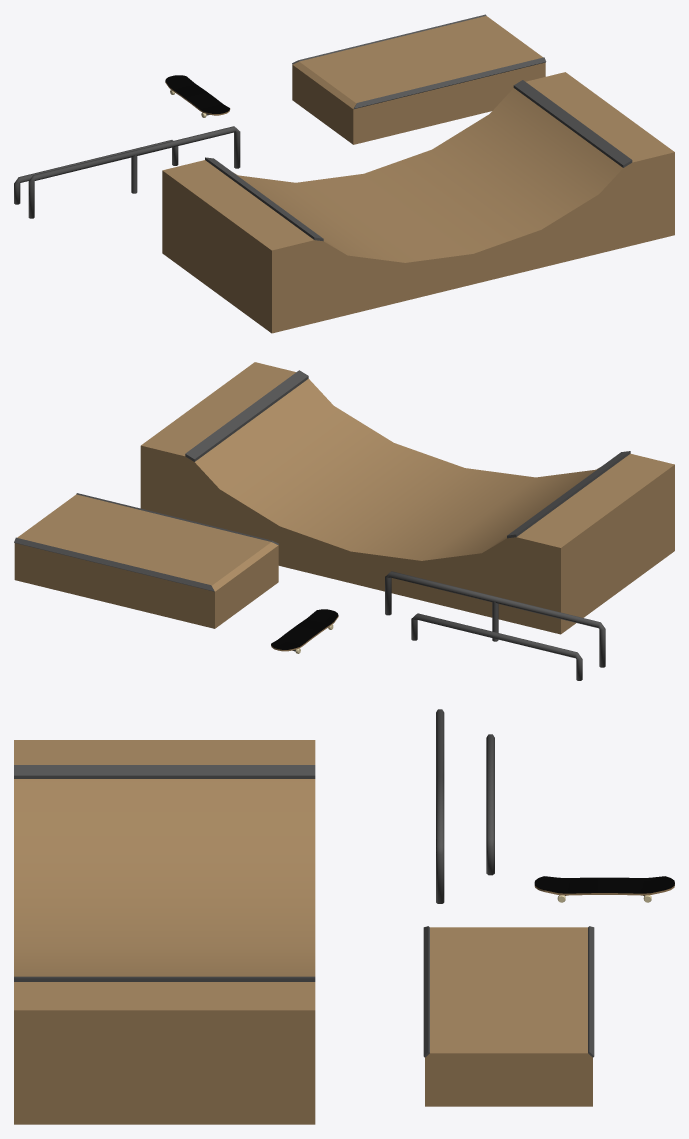
The model's file is skatepark-stuff.fbx.
3 views of the same model, one above another, from view 1: azimuth 30°, elevation 25°; view 2: azimuth 150°, elevation 25°; view 3: azimuth 270°, elevation 25° (orthographic). The views are drawn at different scales.
Parts seen in each view (by area): view 1: miniramp, manny-pad, rail, skateboard, small-rail; view 2: miniramp, manny-pad, rail, small-rail, skateboard; view 3: miniramp, manny-pad, skateboard, rail, small-rail.
Boxes of the visible parts, x1=… form: miniramp: x1=162, y1=72, x2=674, y2=333; manny-pad: x1=292, y1=14, x2=546, y2=144; rail: x1=28, y1=126, x2=240, y2=218; skateboard: x1=165, y1=75, x2=230, y2=117; small-rail: x1=14, y1=140, x2=178, y2=204; miniramp: x1=140, y1=362, x2=674, y2=634; manny-pad: x1=14, y1=493, x2=278, y2=628; rail: x1=385, y1=571, x2=605, y2=667; small-rail: x1=411, y1=613, x2=582, y2=680; skateboard: x1=271, y1=609, x2=338, y2=653; miniramp: x1=14, y1=740, x2=315, y2=1124; manny-pad: x1=423, y1=926, x2=594, y2=1106; skateboard: x1=534, y1=876, x2=674, y2=902; rail: x1=436, y1=709, x2=444, y2=903; small-rail: x1=486, y1=734, x2=494, y2=875.
Bounding box in the file's own units: 16.26 × 2.6 × 13.24.
